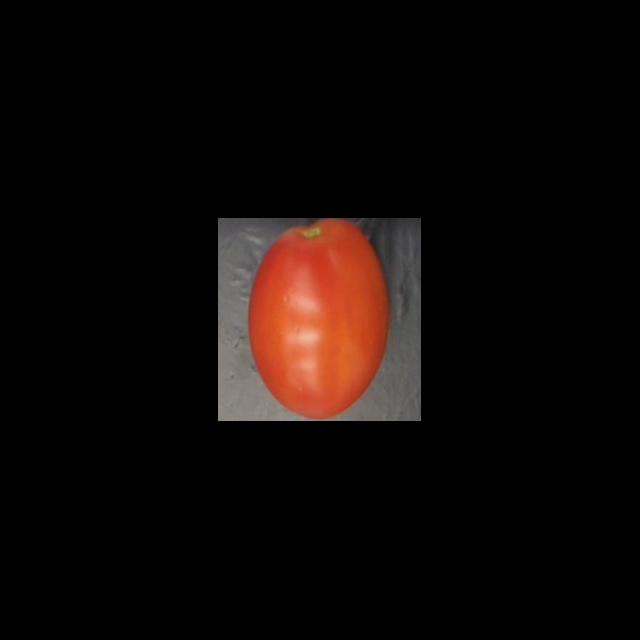tomato: (246, 219, 394, 422)
